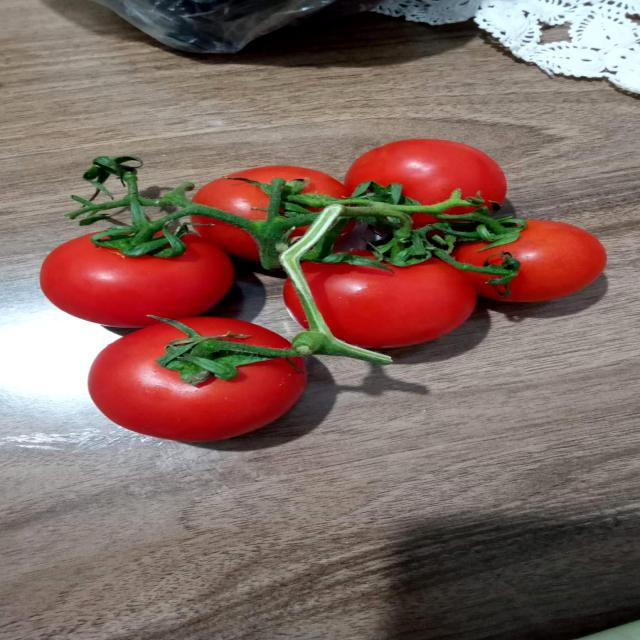tomato: (76, 311, 329, 454), (274, 226, 482, 365), (30, 210, 249, 329), (430, 199, 630, 311), (167, 150, 359, 261), (345, 127, 521, 227)
